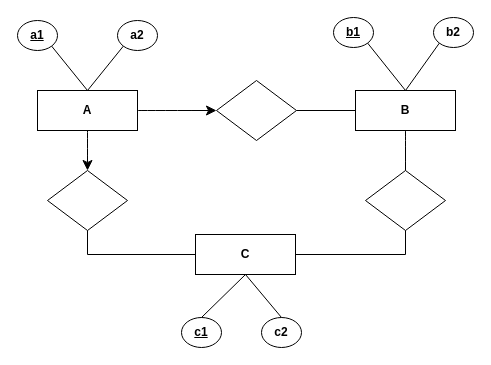
The diagram is 491 pixels wide and 365 high, and some of its shapes have lost their labels. Here are the shapes that lost their labels. From the top down, the centre of each, then its label:
the point at 256,110: R1
the point at 87,200: R2
the point at 405,200: R3
